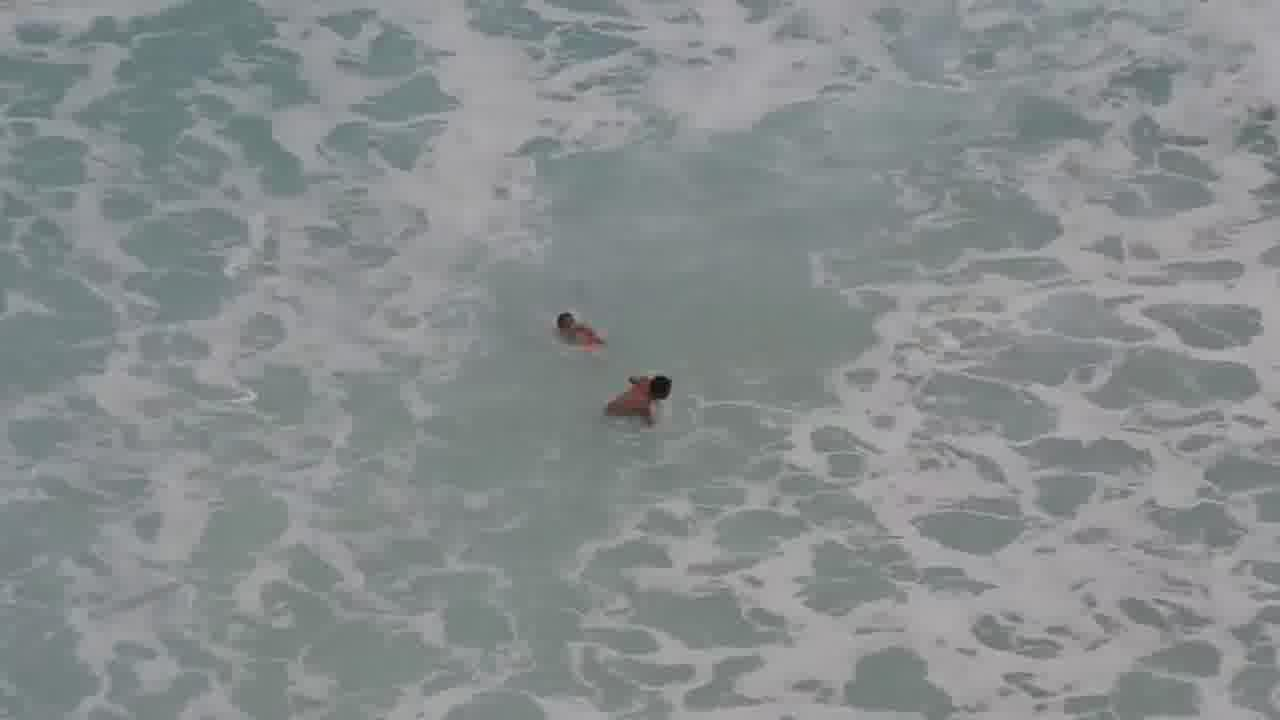swimmer: (627, 364, 686, 428), (540, 295, 599, 350)
